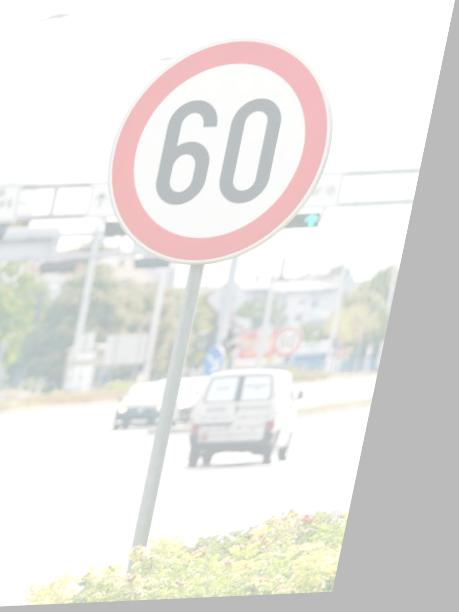Speed Limit -60-: (95, 32, 358, 272)
